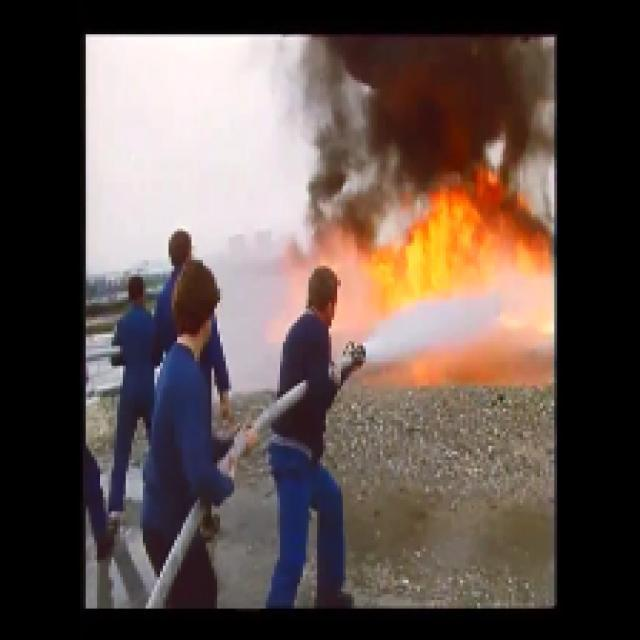Fire: (359, 170, 562, 304)
Smoke: (293, 31, 557, 166)
